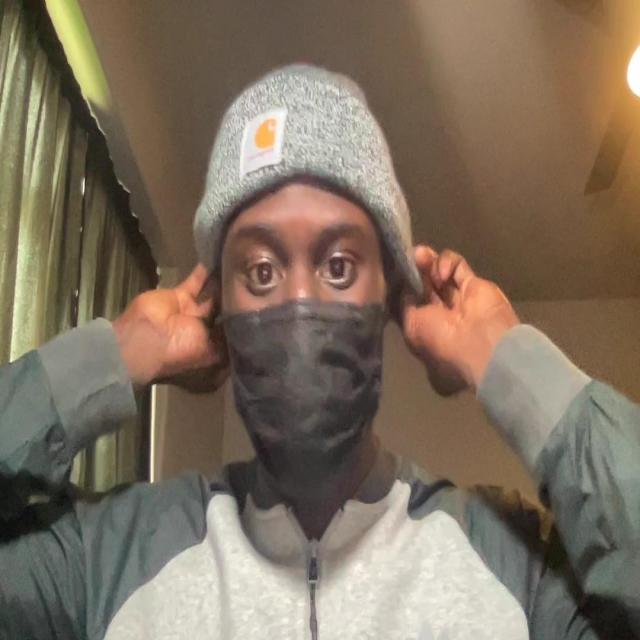face: (214, 174, 394, 505)
